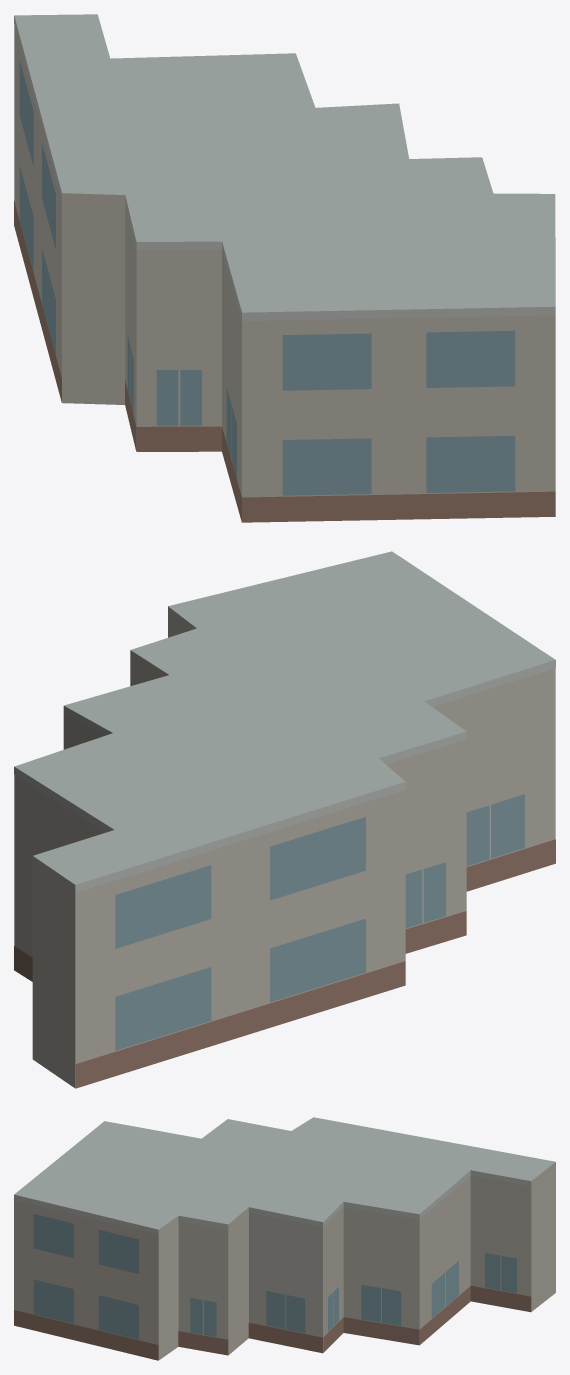
The model's file is survey-upis-32765457.glb.
The picture shows the model from 3 angles, top to bottom: view 1: azimuth 30°, elevation 25°; view 2: azimuth 150°, elevation 25°; view 3: azimuth 270°, elevation 25°; orthographic projection. The views are drawn at different scales.
Parts seen in each view (by area): view 1: survey-upis-32765457.tmp; view 2: survey-upis-32765457.tmp; view 3: survey-upis-32765457.tmp.
Boxes of the visible parts, x1,y1,x2,y2 form: survey-upis-32765457.tmp: [14, 14, 555, 522]; survey-upis-32765457.tmp: [14, 551, 555, 1088]; survey-upis-32765457.tmp: [14, 1117, 555, 1360].
Bounding box in the file's own units: 11.23 × 6.1 × 22.86.
